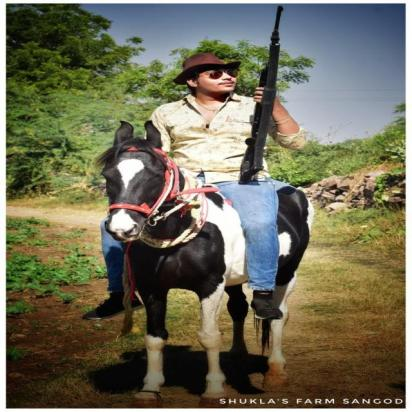Gun: (236, 3, 290, 185)
